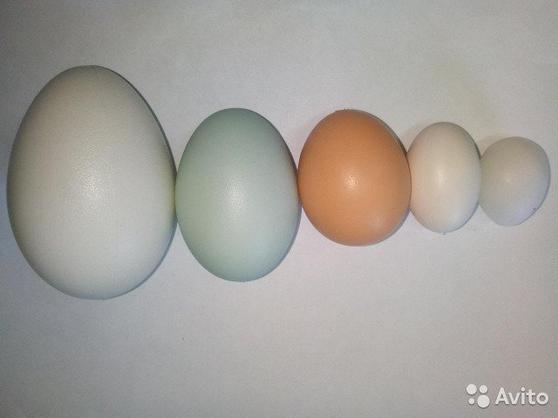egg: (5, 66, 176, 304), (295, 101, 413, 246)
